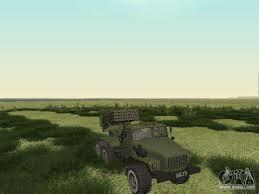MIL_SAM_TEL: (91, 108, 193, 194)
